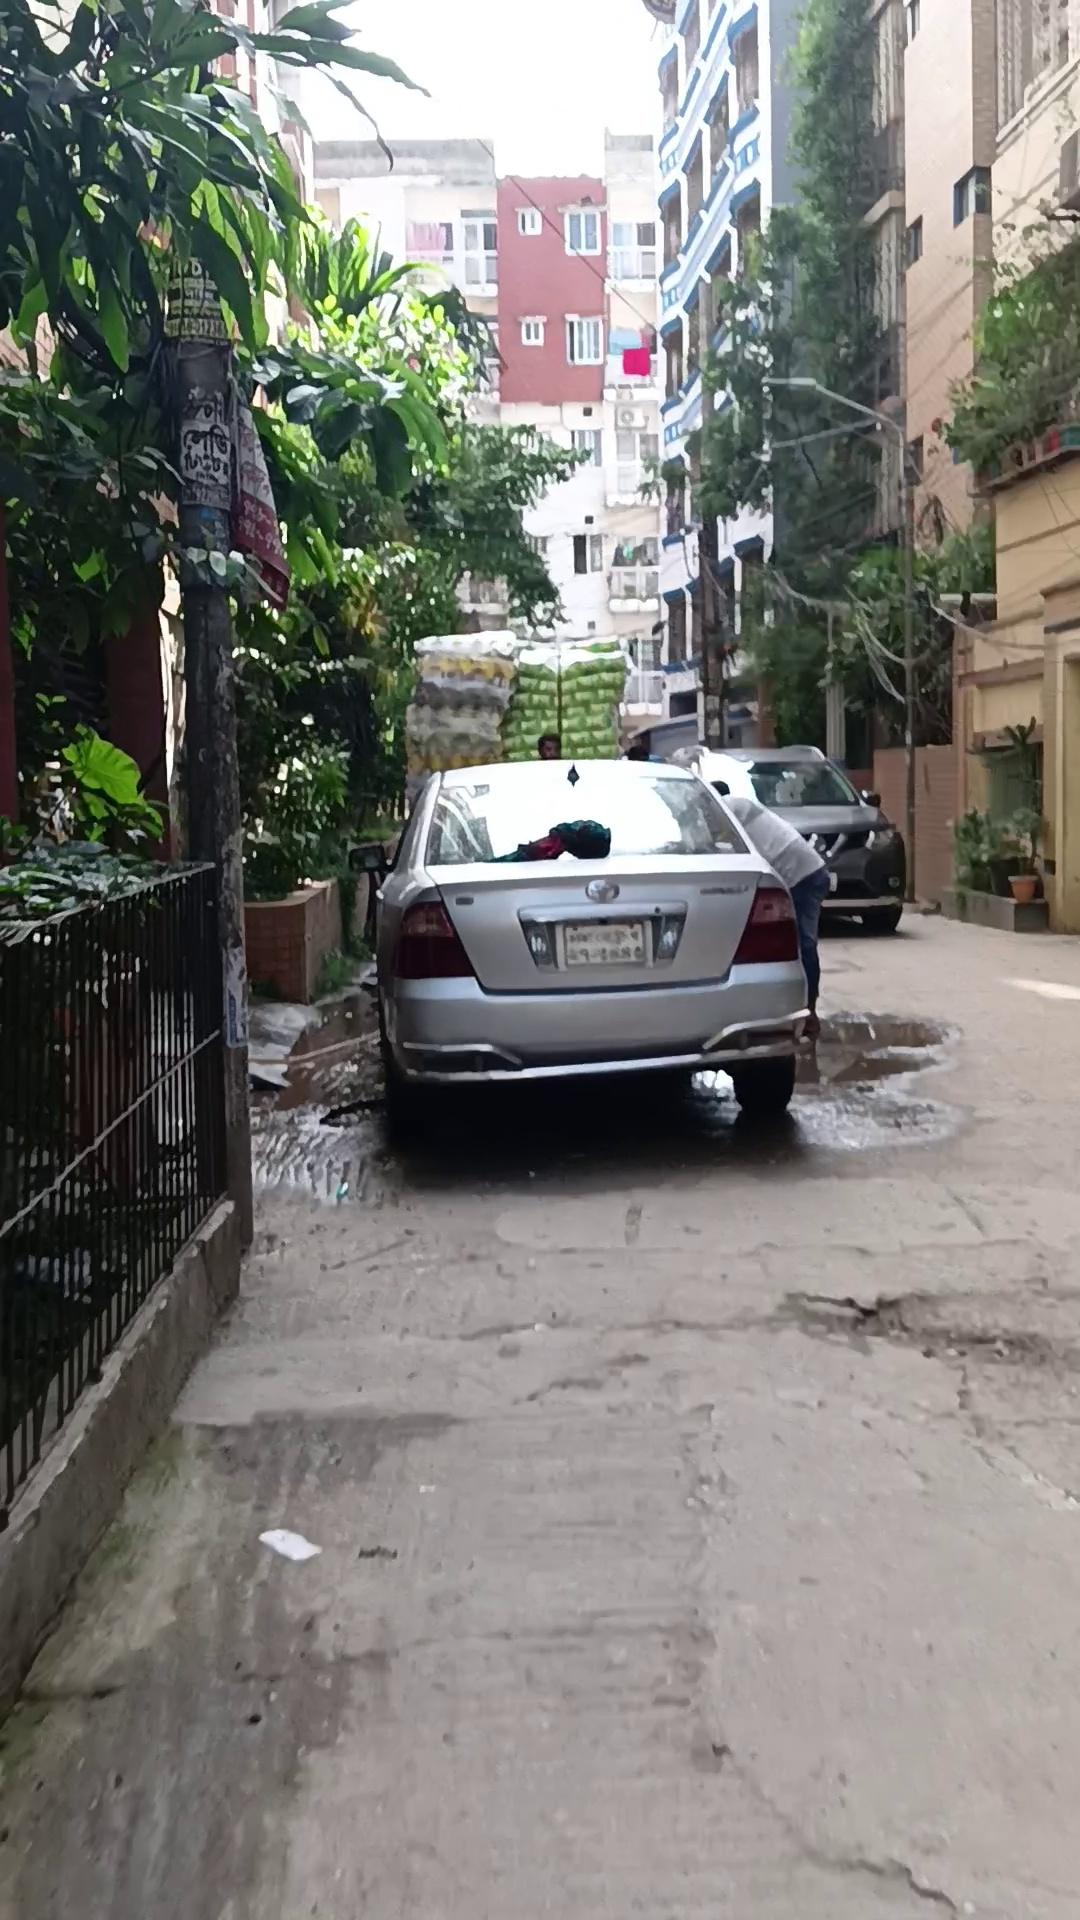Broken-road: (3, 903, 1077, 1916)
Car: (347, 756, 815, 1124), (665, 742, 906, 934)
Crosswalk: (1, 1189, 245, 1722), (939, 881, 1048, 932)
Garbage-bin: (760, 372, 920, 903)
Muddy road: (622, 735, 649, 760), (537, 732, 560, 760)
Obstacle: (162, 3, 264, 1251)
Railroad-crossing: (241, 984, 409, 1133), (795, 998, 955, 1109)
